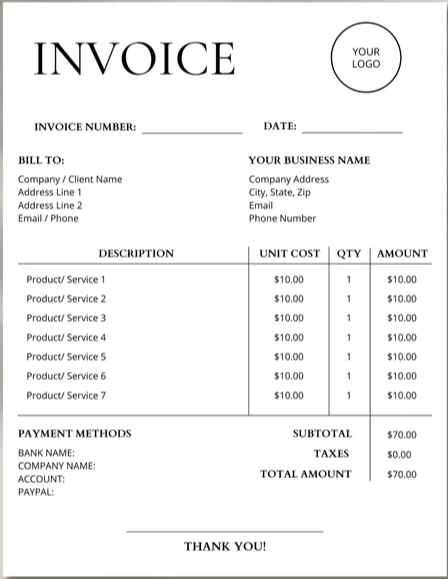Table: (6, 240, 440, 502)
